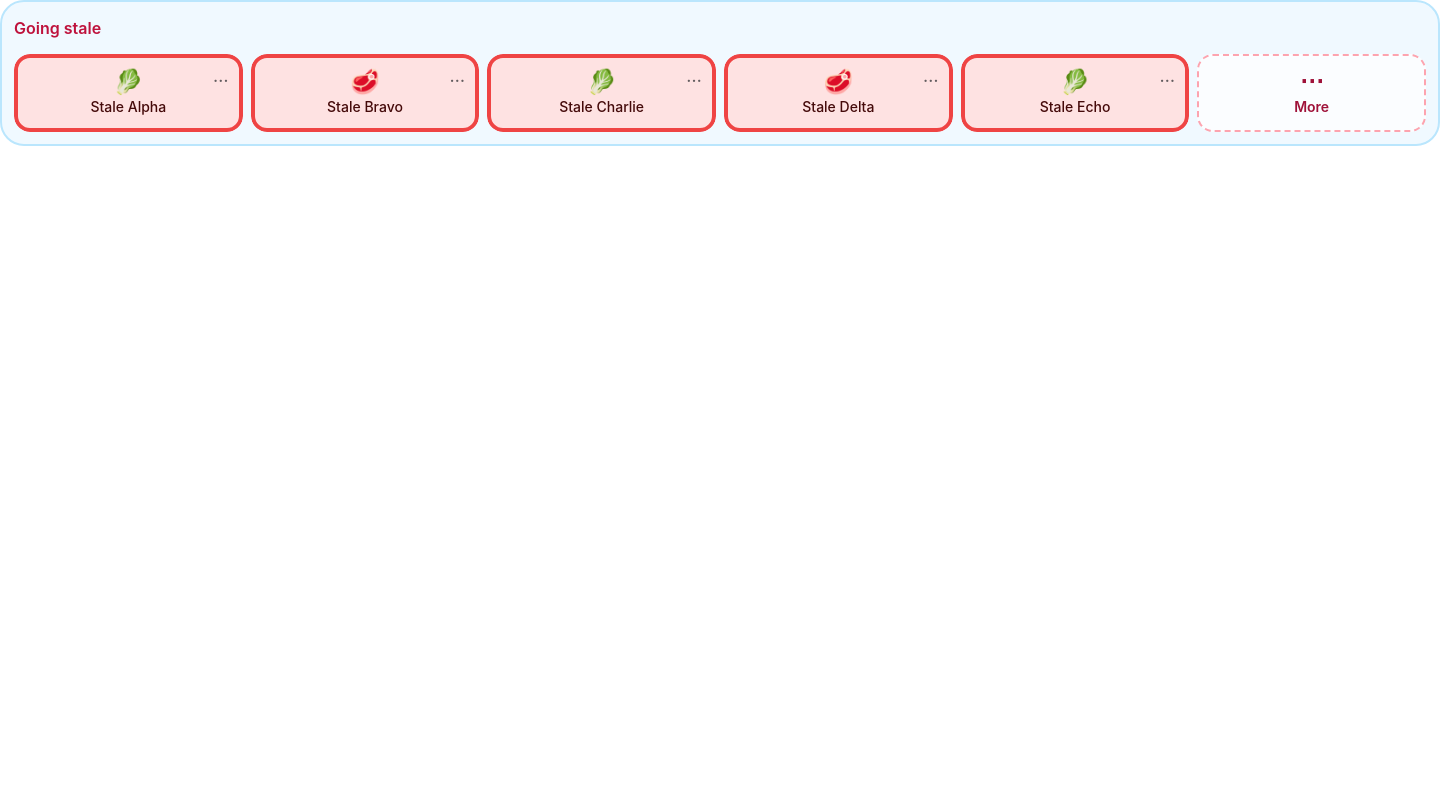
it: StaleStrip › closes the list before opening an item's sheet from it
Step 1. Click the button with aria-label "All going stale" → point(1312, 93), box [1197,54,1426,132]
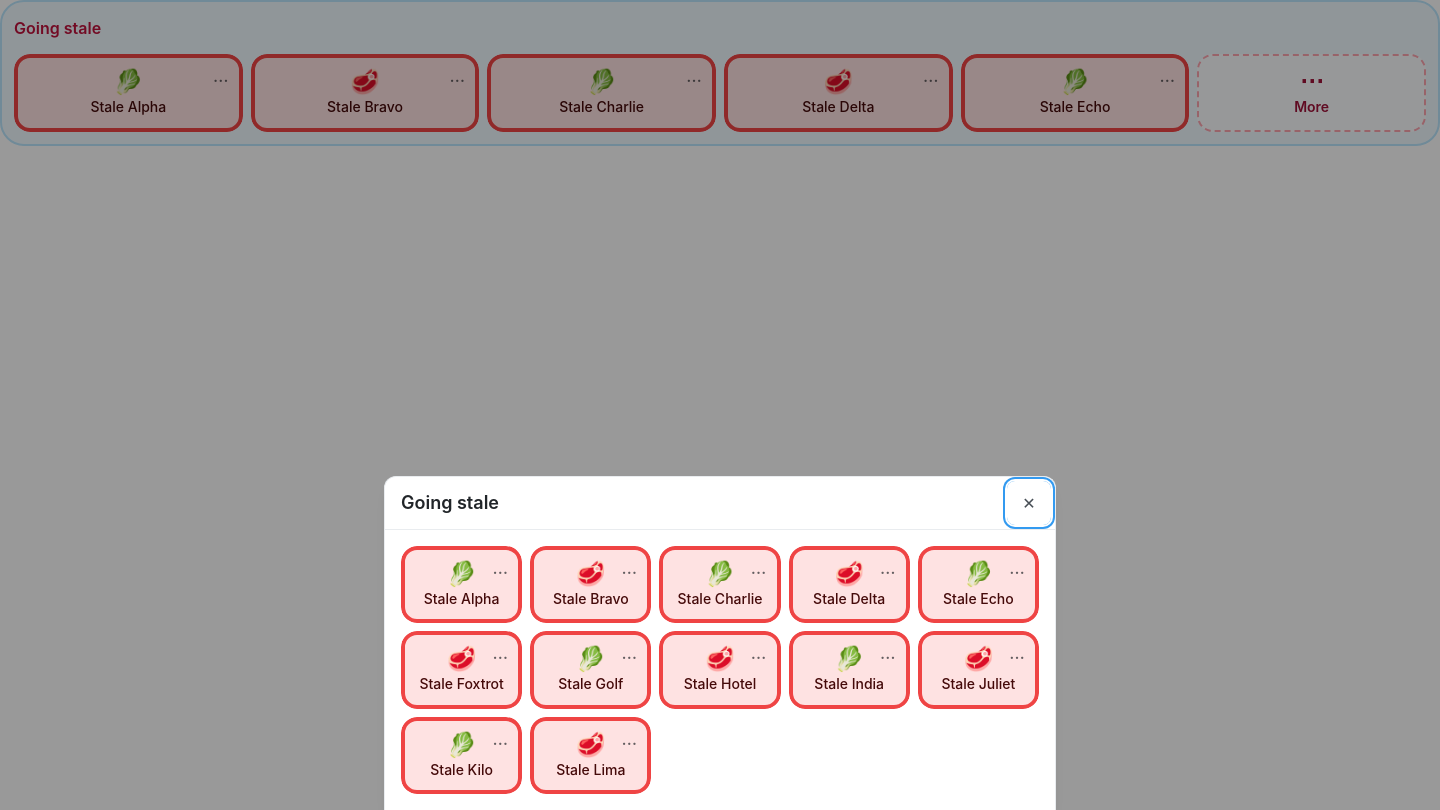
Step 2. Click the button named "More for Stale Lima" → point(629, 738), box [607,716,651,760]
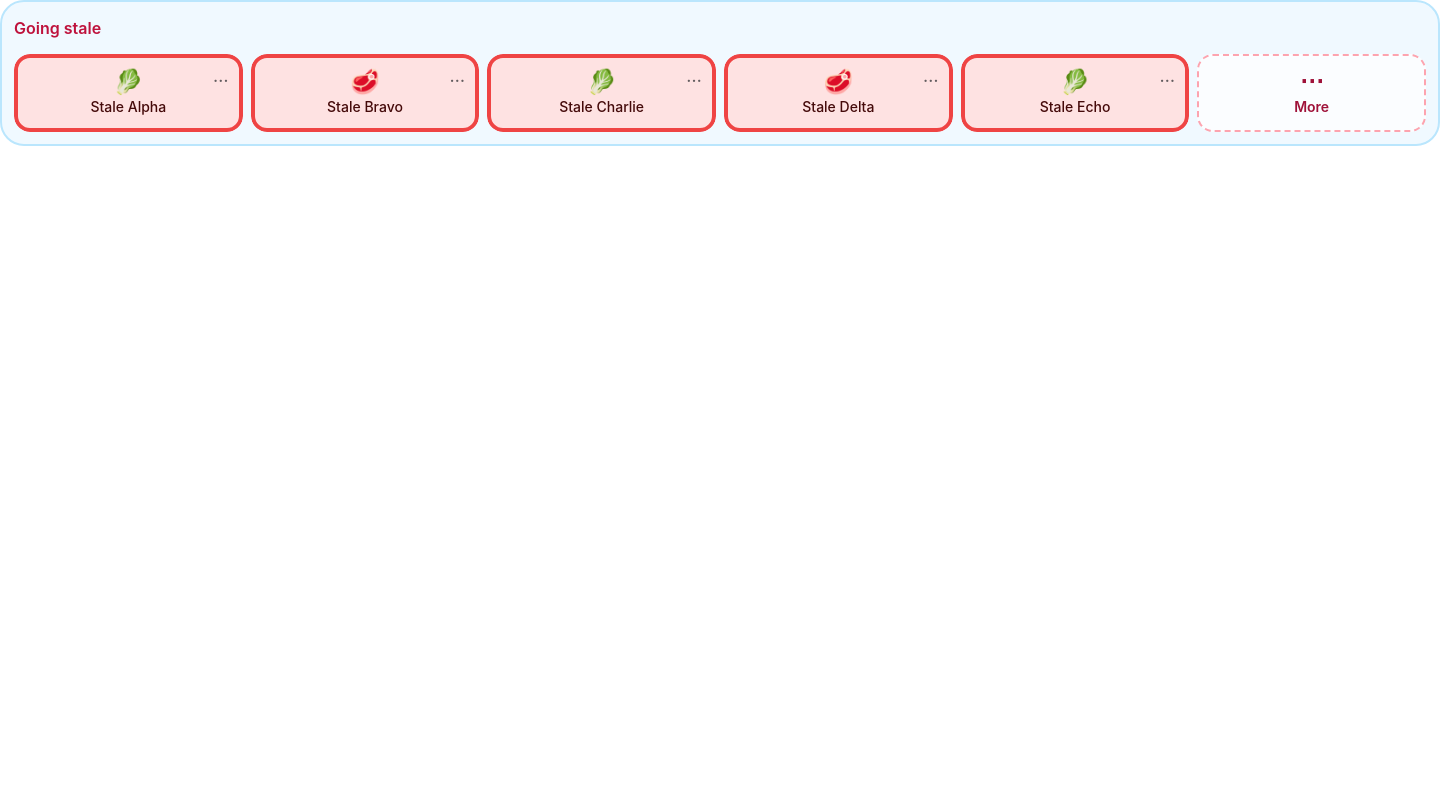
Expected: the dialog is gone
